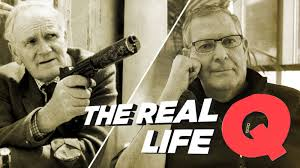Gun: (73, 37, 145, 76)
